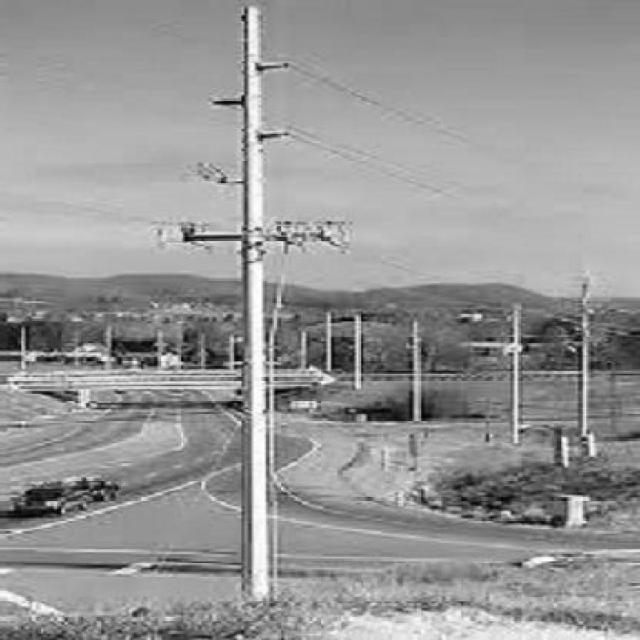Pole: (216, 3, 282, 598)
